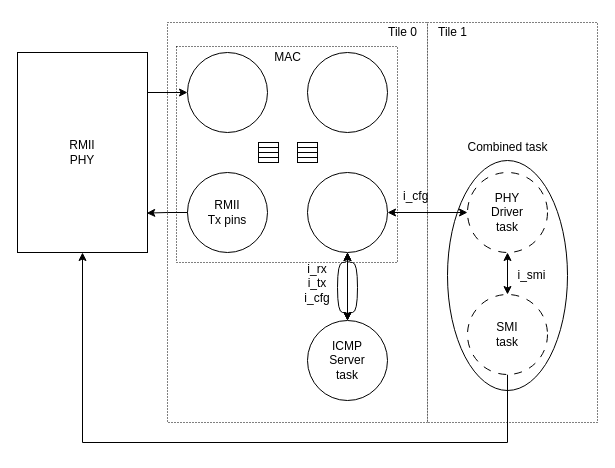
Some shapes in this 615 by 468 pixel diagram are drawn without their labels. Each missing label, with the box of its shape:
RMII Rx pins: (186, 52, 268, 132)
RT Ethernet MAC server: (306, 172, 388, 252)
Rx Filter: (306, 52, 388, 132)
